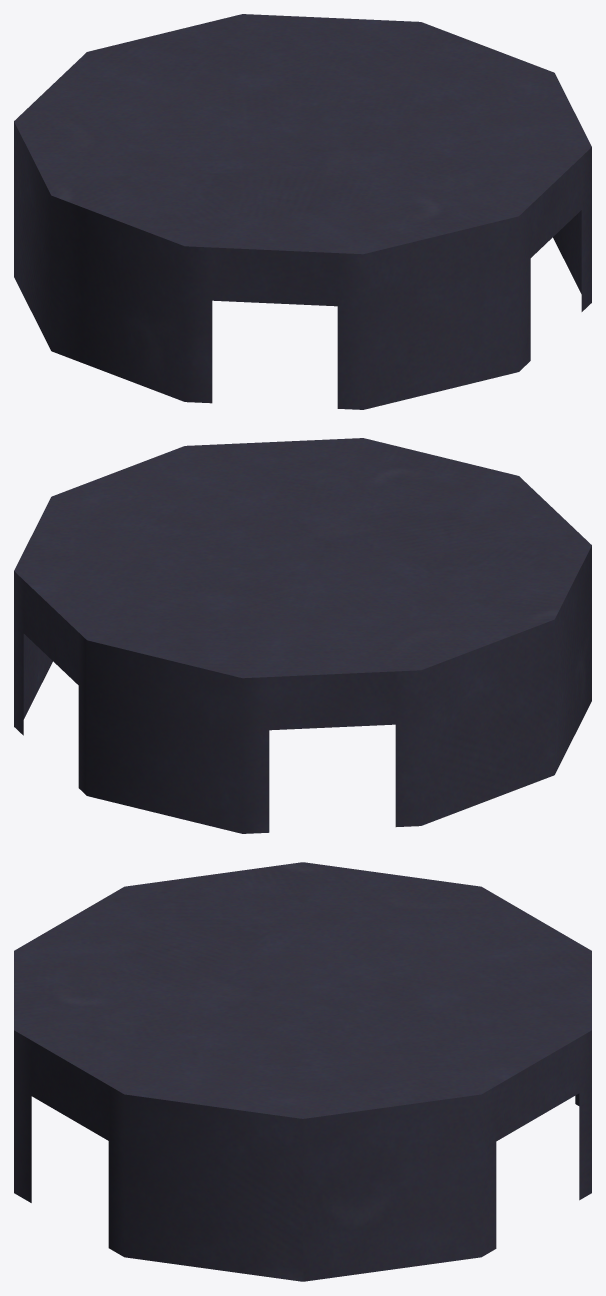
File: Top.FBX
The picture shows the model from 3 angles, top to bottom: view 1: azimuth 30°, elevation 25°; view 2: azimuth 150°, elevation 25°; view 3: azimuth 270°, elevation 25°; orthographic projection. The views are drawn at different scales.
Visible parts, largest first — view 1: Cylinder001; view 2: Cylinder001; view 3: Cylinder001.
Boxes of the visible parts, bbox=[...] form: Cylinder001: bbox=[14, 14, 591, 409]; Cylinder001: bbox=[14, 438, 591, 833]; Cylinder001: bbox=[14, 862, 591, 1281].
Size of the model in its own units: 135302 by 40007 by 128680.
Materials: 1 (1 with a texture image).
